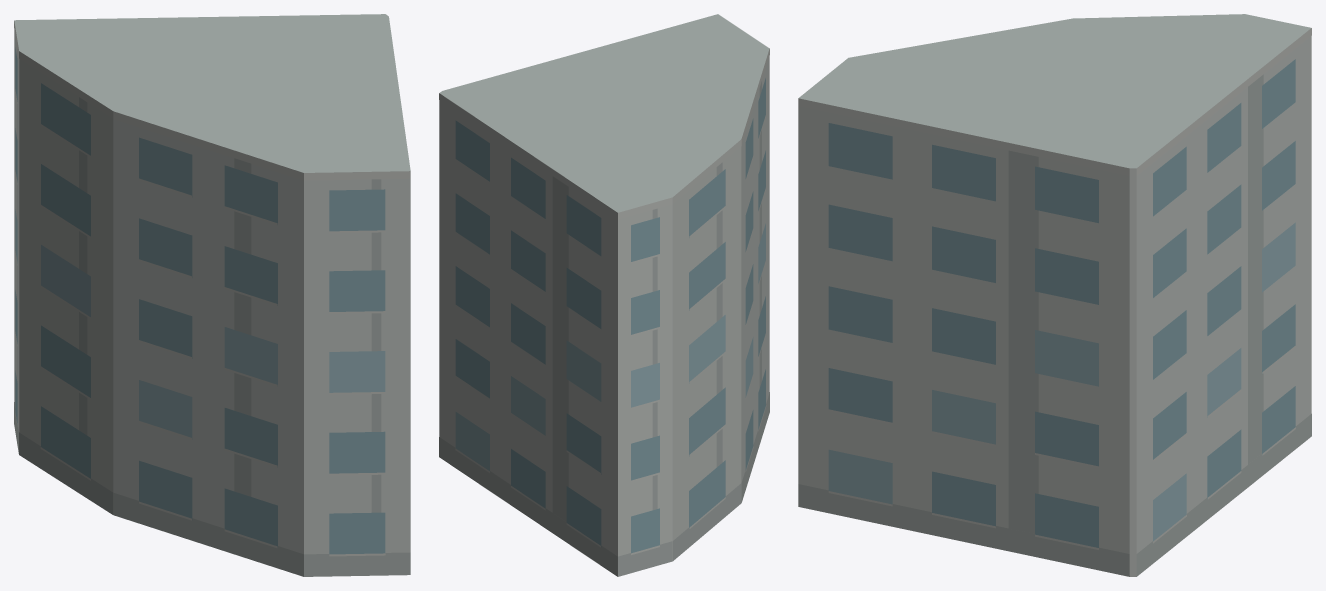
The model's file is survey-upis-32723668.glb.
The picture shows the model from 3 angles, left to right: view 1: azimuth 30°, elevation 25°; view 2: azimuth 150°, elevation 25°; view 3: azimuth 270°, elevation 25°; orthographic projection. The views are drawn at different scales.
Visible parts, largest first — view 1: survey-upis-32723668.tmp; view 2: survey-upis-32723668.tmp; view 3: survey-upis-32723668.tmp.
Boxes of the visible parts, box(x1,y1,x2,y2) form: survey-upis-32723668.tmp: box(14, 14, 410, 576); survey-upis-32723668.tmp: box(439, 14, 769, 576); survey-upis-32723668.tmp: box(798, 14, 1311, 576).
Size of the model in its own units: 10.38 by 12.8 by 14.59.
